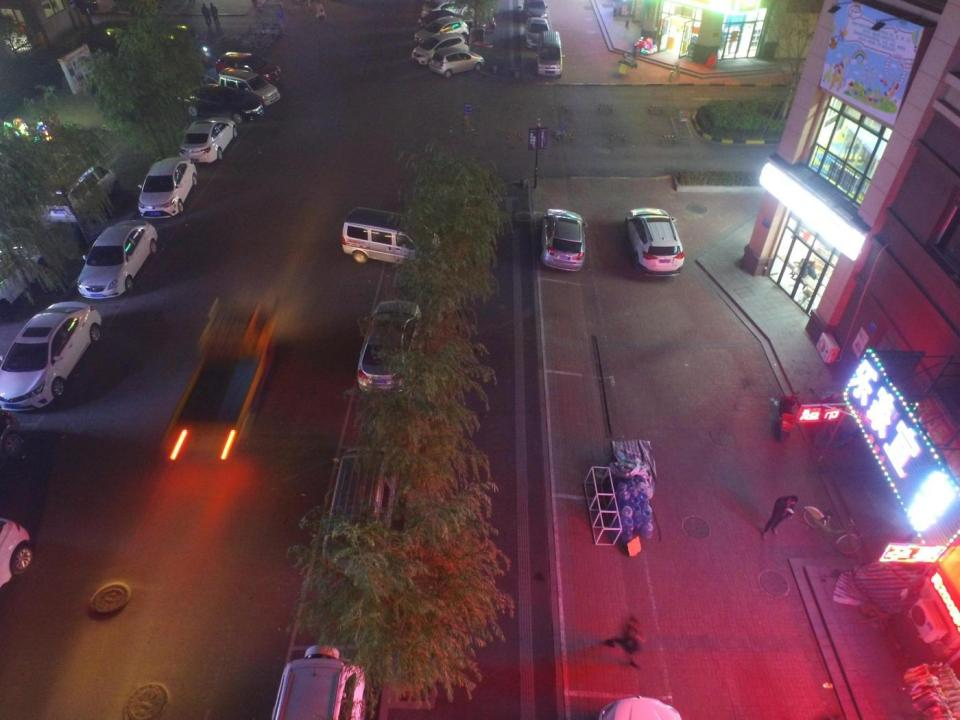car: (0, 301, 101, 410), (357, 300, 425, 394), (77, 220, 158, 298), (626, 208, 684, 276), (138, 157, 196, 218), (0, 244, 47, 316), (183, 84, 263, 124), (540, 208, 588, 271), (180, 116, 237, 162), (217, 66, 279, 105), (216, 52, 280, 84), (412, 32, 468, 67), (414, 15, 469, 46), (428, 48, 484, 78), (417, 10, 473, 31), (420, 0, 474, 19), (525, 18, 551, 50)
truck: (162, 296, 282, 456)
van: (322, 445, 403, 573), (271, 645, 365, 719), (342, 207, 440, 265), (36, 162, 119, 225), (536, 31, 565, 78)
